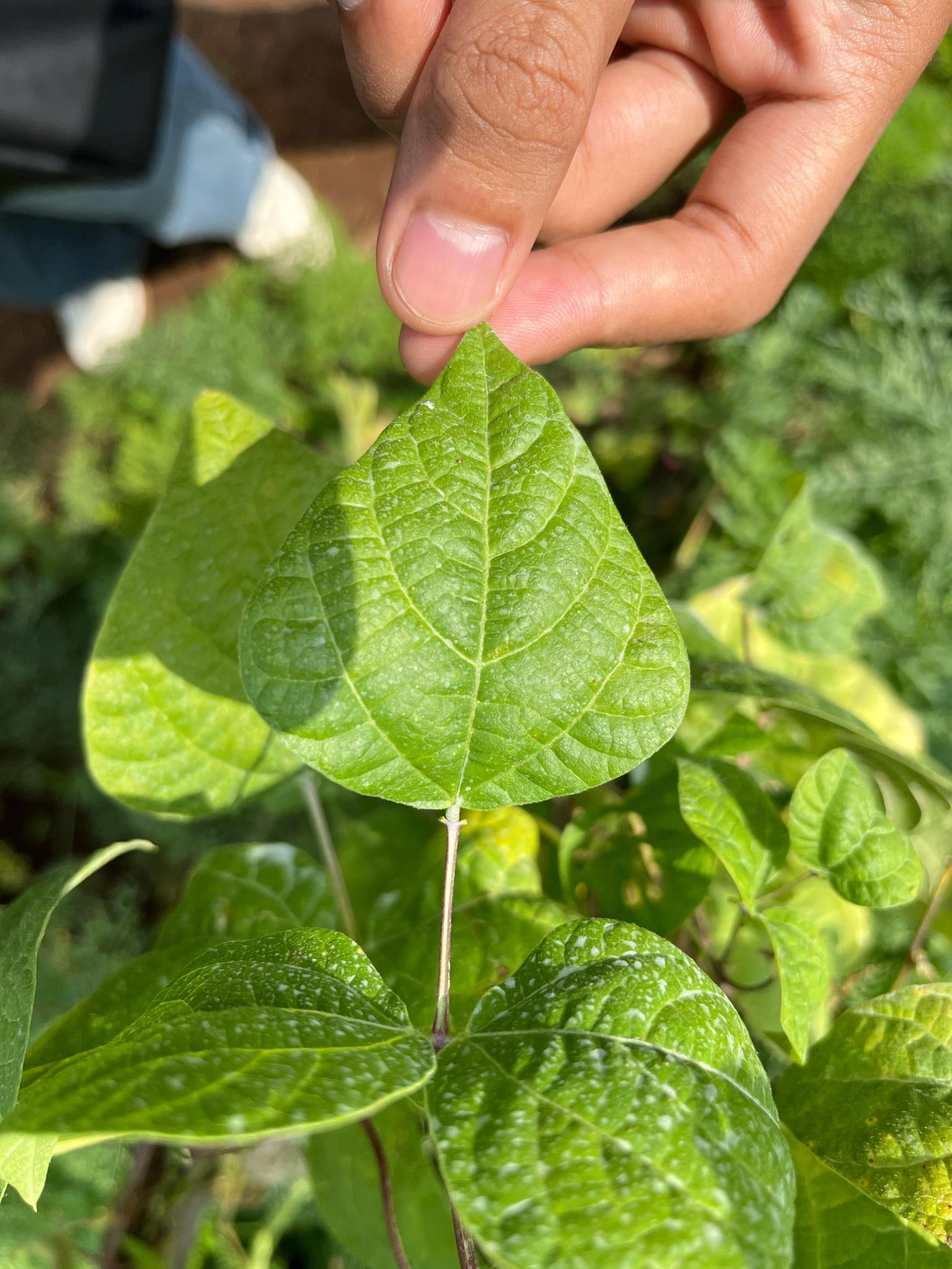embun tepung: (425, 928, 802, 1261)
sehat: (247, 340, 705, 802)
